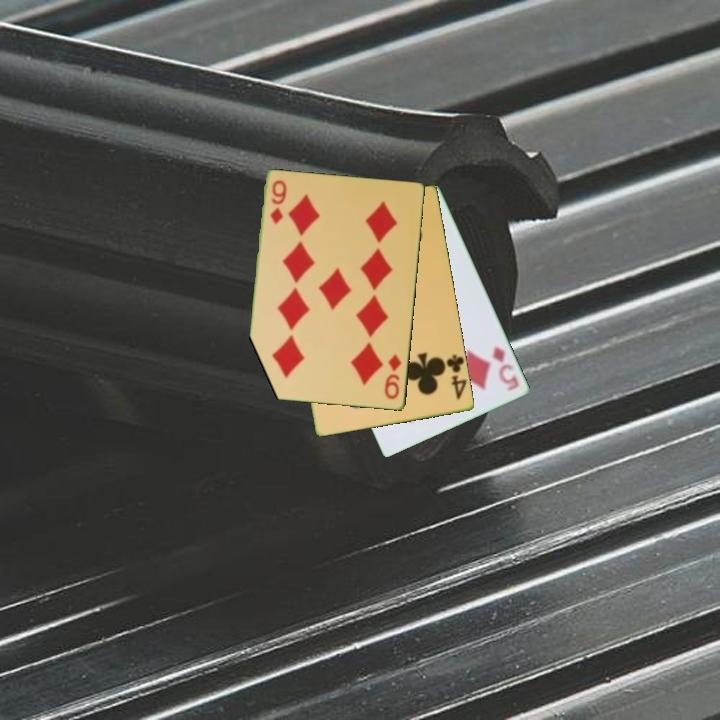4c: (443, 351, 469, 403)
5d: (489, 342, 522, 394)
9d: (381, 351, 405, 402), (267, 177, 289, 227)
